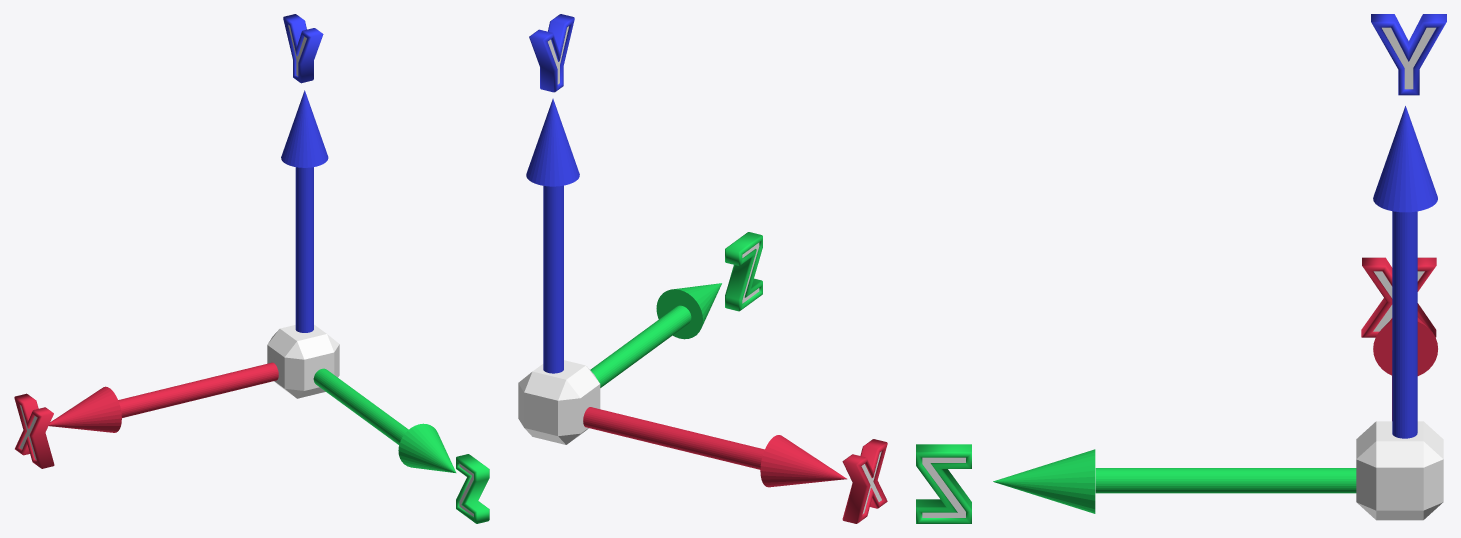
The model's file is coordinate_system (1).fbx.
3 renders of one model, left to right at view 1: azimuth 30°, elevation 25°; view 2: azimuth 150°, elevation 25°; view 3: azimuth 270°, elevation 25°, orthographic. The views are drawn at different scales.
Visible parts, largest first — view 1: Z axis, X axis, Y axis, Cube.008, X text outline, Y text outline, Z text outline; view 2: X axis, Z axis, Cube.008, Y axis, X text outline, Z text outline, Y text outline; view 3: Y axis, Z axis, Cube.008, Z text outline, Y text outline, X text outline, X axis, Z text, Y text.
Part boxes in pixels (left/top/right/bottom): Z axis: left=281, top=90, right=328, bottom=332; X axis: left=48, top=362, right=278, bottom=432; Y axis: left=313, top=368, right=456, bottom=472; Cube.008: left=267, top=324, right=339, bottom=398; X text outline: left=14, top=393, right=54, bottom=468; Y text outline: left=283, top=14, right=323, bottom=83; Z text outline: left=456, top=454, right=489, bottom=523; X axis: left=583, top=407, right=846, bottom=487; Z axis: left=526, top=98, right=579, bottom=373; Cube.008: left=518, top=360, right=600, bottom=444; Y axis: left=590, top=283, right=721, bottom=387; X text outline: left=842, top=439, right=887, bottom=523; Z text outline: left=725, top=232, right=762, bottom=311; Y text outline: left=529, top=14, right=574, bottom=92; Y axis: left=993, top=449, right=1356, bottom=513; Z axis: left=1373, top=106, right=1437, bottom=438; Cube.008: left=1356, top=421, right=1443, bottom=520; Z text outline: left=916, top=444, right=971, bottom=523; Y text outline: left=1371, top=14, right=1446, bottom=95; X text outline: left=1361, top=257, right=1436, bottom=337; X axis: left=1373, top=317, right=1437, bottom=420; Z text: left=922, top=457, right=965, bottom=517; Y text: left=1382, top=27, right=1435, bottom=89.
Bounding box in the file's own units: 277 × 318 × 304.
